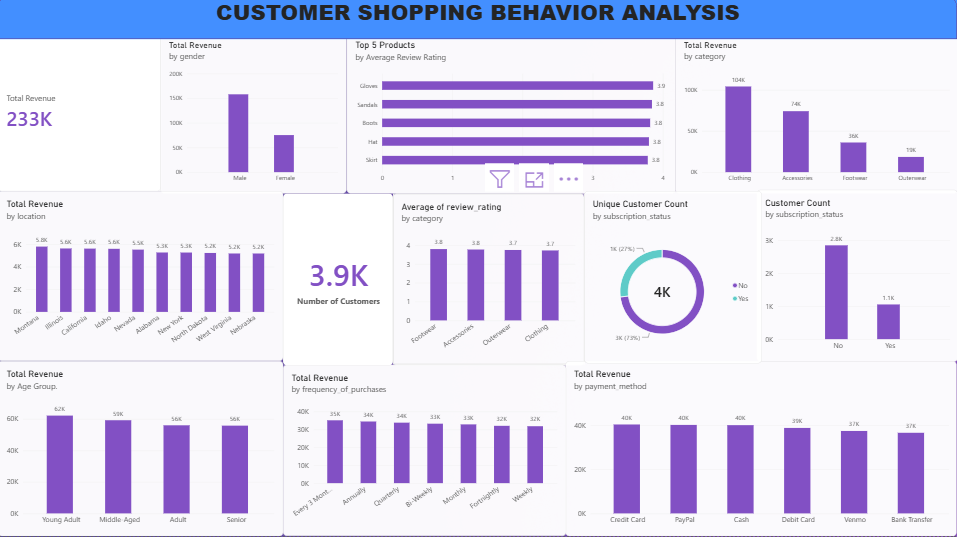

What the dashboard file says about the page in this screenshot:
{"tool":"powerbi","page":{"name":"Page 1","canvas":[1920,1080],"ordinal":0},"visuals":[{"type":"cardVisual","fields":{"Data":["public customer_behavior.Total Revenue"]},"box":[0,72,326,318],"z":0},{"type":"clusteredColumnChart","fields":{"Category":["public customer_behavior.gender"],"Y":["public customer_behavior.Total Revenue"]},"box":[326,72,372,322],"z":1000},{"type":"clusteredBarChart","title":"Top 5 Products","fields":{"Category":["public customer_behavior.item_purchased"],"Y":["Avg(public customer_behavior.review_rating)"]},"box":[698,72,658,322],"z":2000},{"type":"clusteredColumnChart","fields":{"Category":["public customer_behavior.category"],"Y":["public customer_behavior.Total Revenue"]},"box":[1356,72,566,322],"z":3000},{"type":"clusteredColumnChart","fields":{"Category":["public customer_behavior.location"],"Y":["public customer_behavior.Total Revenue"]},"box":[0,390,570,340],"z":4000},{"type":"clusteredColumnChart","title":"Customer Count","fields":{"Category":["public customer_behavior.subscription_status"],"Y":["CountNonNull(public customer_behavior.customer_id)"]},"box":[1518,388,404,344],"z":5000},{"type":"clusteredColumnChart","fields":{"Category":["public customer_behavior.category"],"Y":["Avg(public customer_behavior.review_rating)"]},"box":[790,394,382,344],"z":6000},{"type":"clusteredColumnChart","title":"Total Revenue","fields":{"Category":["public customer_behavior.age_group"],"Y":["public customer_behavior.Total Revenue"]},"box":[0,730,570,350],"z":7000},{"type":"clusteredColumnChart","fields":{"Category":["public customer_behavior.payment_method"],"Y":["public customer_behavior.Total Revenue"]},"box":[1136,730,784,350],"z":8000},{"type":"clusteredColumnChart","fields":{"Category":["public customer_behavior.frequency_of_purchases"],"Y":["public customer_behavior.Total Revenue"]},"box":[570,738,566,342],"z":9000},{"type":"cardVisual","fields":{"Data":["public customer_behavior.Number of Customers"]},"box":[570,394,220,344],"z":11000},{"type":"shape","box":[0,0,1920,86],"z":12000},{"type":"textbox","box":[0,0,1920,86],"z":12001},{"type":"donutChart","fields":{"Category":["public customer_behavior.subscription_status"],"Y":["public customer_behavior.Unique Customer Count"]},"box":[1172.5,390,355,345],"z":12002}]}

Visuals, with their boxes in screenshot pixels (x1, y1, x2, y2), scaled from the page's 1920x1080 canvas onto the 957x537 screenshot:
cardVisual - public customer_behavior.Total Revenue: (left=0, top=36, right=162, bottom=194)
clusteredColumnChart - public customer_behavior.gender x public customer_behavior.Total Revenue: (left=162, top=36, right=348, bottom=196)
"Top 5 Products" clusteredBarChart: (left=348, top=36, right=676, bottom=196)
clusteredColumnChart - public customer_behavior.category x public customer_behavior.Total Revenue: (left=676, top=36, right=956, bottom=196)
clusteredColumnChart - public customer_behavior.location x public customer_behavior.Total Revenue: (left=0, top=194, right=284, bottom=363)
"Customer Count" clusteredColumnChart: (left=757, top=193, right=956, bottom=364)
clusteredColumnChart - public customer_behavior.category x Avg(public customer_behavior.review_rating): (left=394, top=196, right=584, bottom=367)
"Total Revenue" clusteredColumnChart: (left=0, top=363, right=284, bottom=536)
clusteredColumnChart - public customer_behavior.payment_method x public customer_behavior.Total Revenue: (left=566, top=363, right=956, bottom=536)
clusteredColumnChart - public customer_behavior.frequency_of_purchases x public customer_behavior.Total Revenue: (left=284, top=367, right=566, bottom=536)
cardVisual - public customer_behavior.Number of Customers: (left=284, top=196, right=394, bottom=367)
shape: (left=0, top=0, right=956, bottom=43)
textbox: (left=0, top=0, right=956, bottom=43)
donutChart - public customer_behavior.subscription_status x public customer_behavior.Unique Customer Count: (left=584, top=194, right=761, bottom=365)
